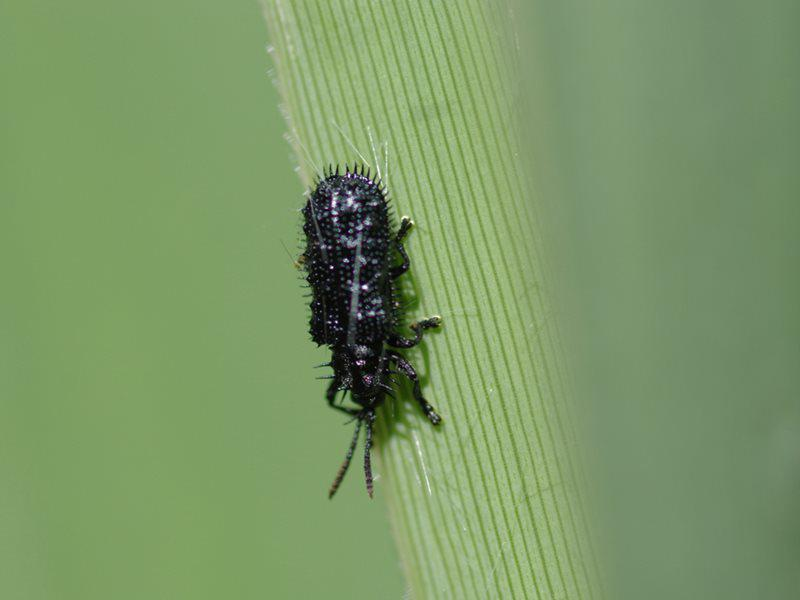Spiny_beetle: (252, 162, 458, 487)
